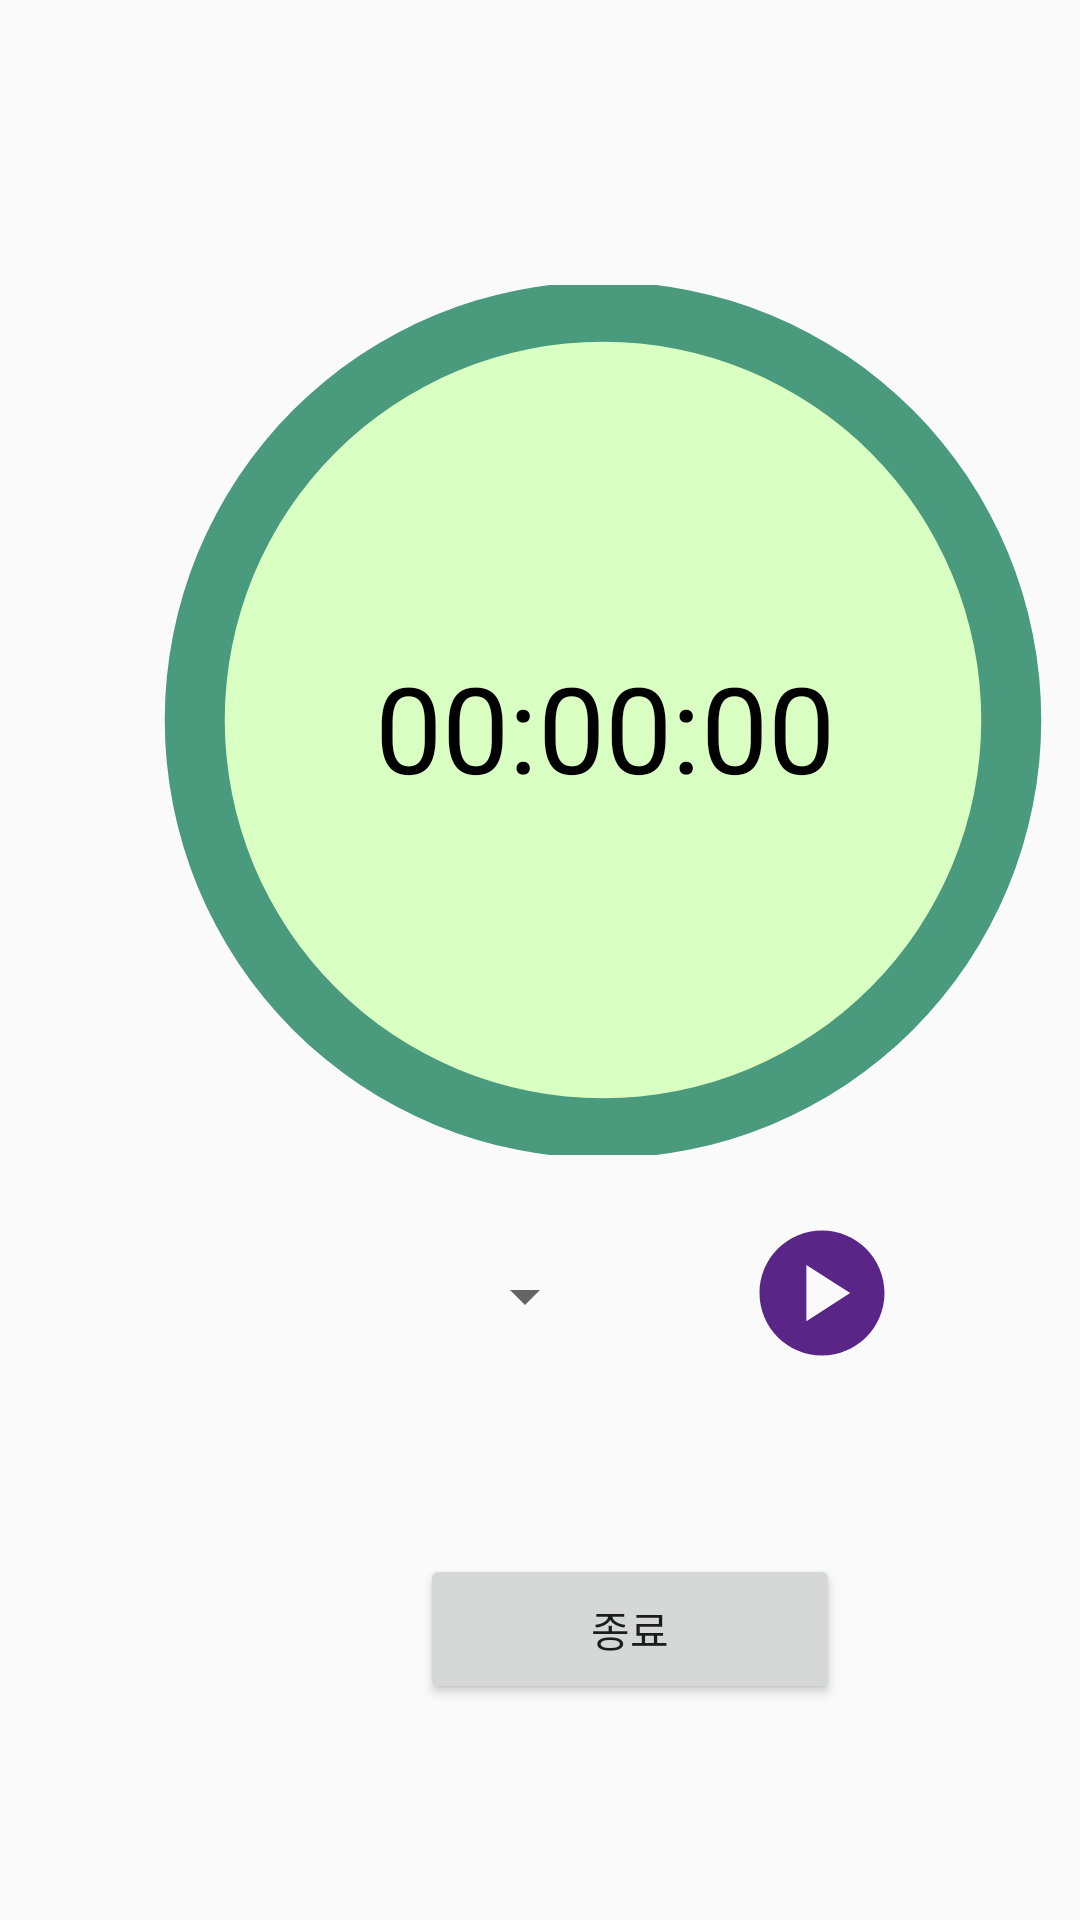

Icon click points for this 1080*1920 phone screenshot, format point (x, y):
play circle: point (822, 1293)
